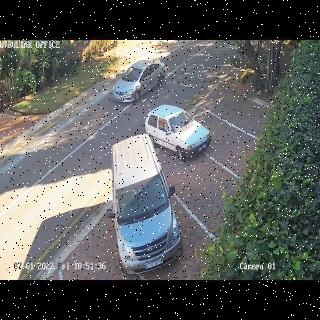car: (111, 132, 183, 274), (144, 103, 212, 162), (112, 61, 168, 102)
